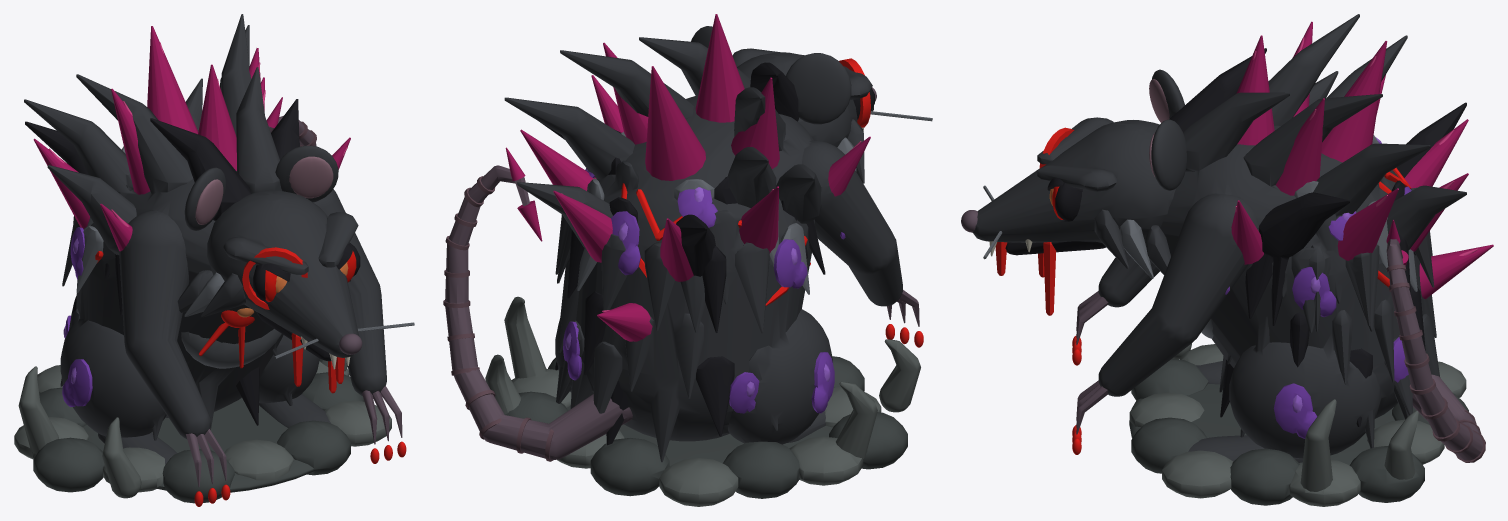
File: toxshade_majin.glb
The picture shows the model from 3 angles, left to right: view 1: azimuth 30°, elevation 25°; view 2: azimuth 150°, elevation 25°; view 3: azimuth 270°, elevation 25°; orthographic projection. The views are drawn at different scales.
Parts seen in each view (by area): view 1: creature; view 2: creature; view 3: creature.
Part boxes in pixels (x1=…): creature: x1=14, y1=14, x2=414, y2=506; creature: x1=443, y1=14, x2=932, y2=506; creature: x1=961, y1=14, x2=1493, y2=506.
Bounding box in the file's own units: 0.9598 × 1 × 1.2.
